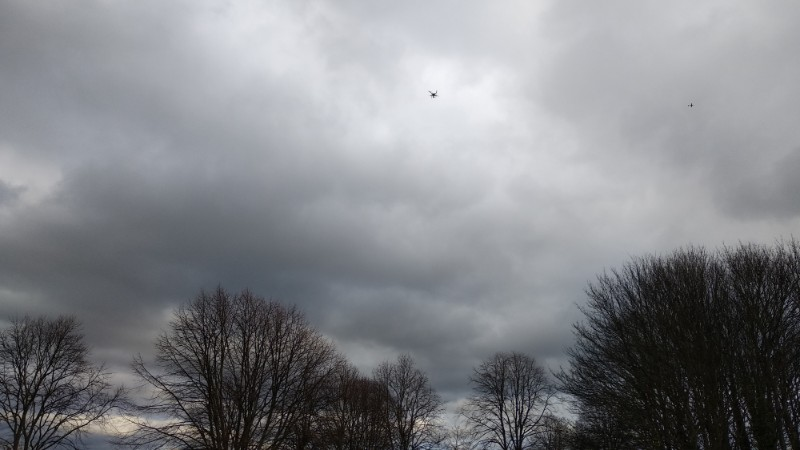drone: (430, 90, 438, 99)
